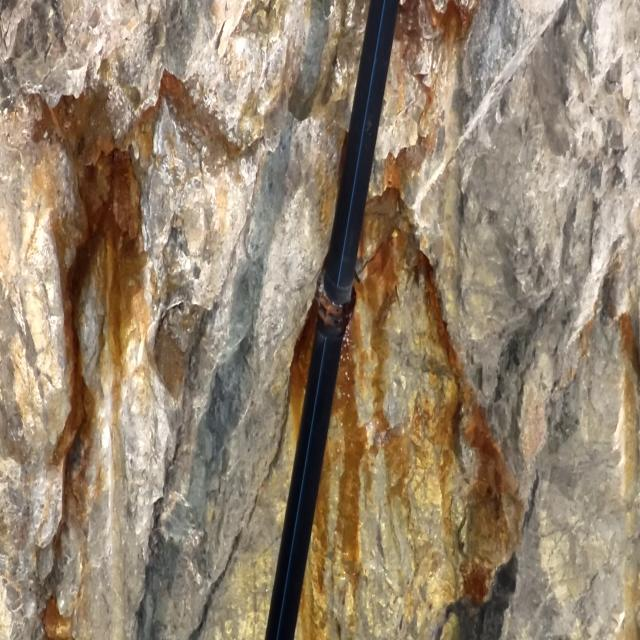leak: (336, 313, 357, 438)
